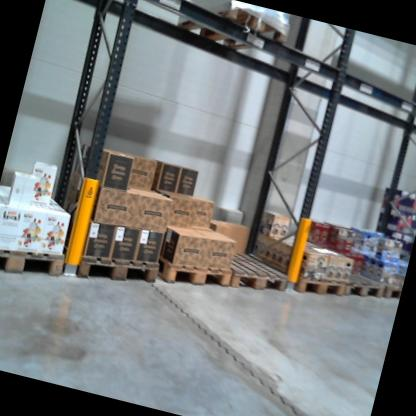pallet: (165, 0, 298, 68), (52, 224, 167, 293), (154, 230, 242, 298), (218, 236, 295, 303), (258, 258, 349, 305), (0, 235, 75, 291), (332, 264, 387, 303), (367, 273, 403, 305)
